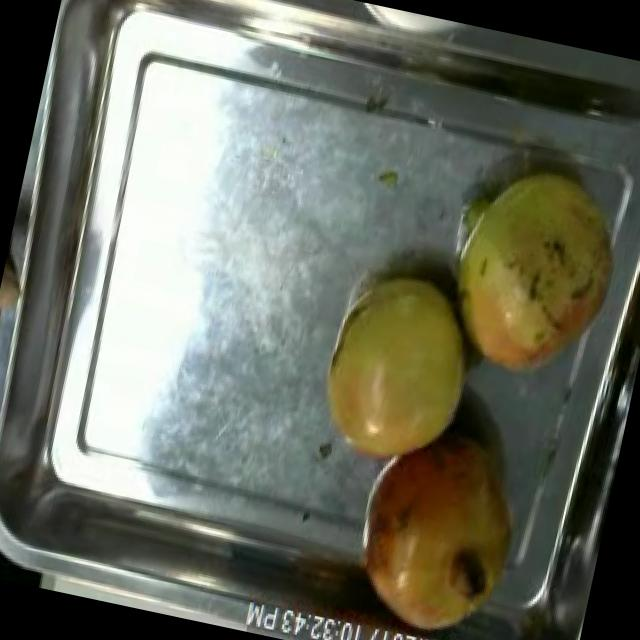fruit: (417, 133, 640, 409), (336, 404, 546, 640), (300, 251, 495, 485)
